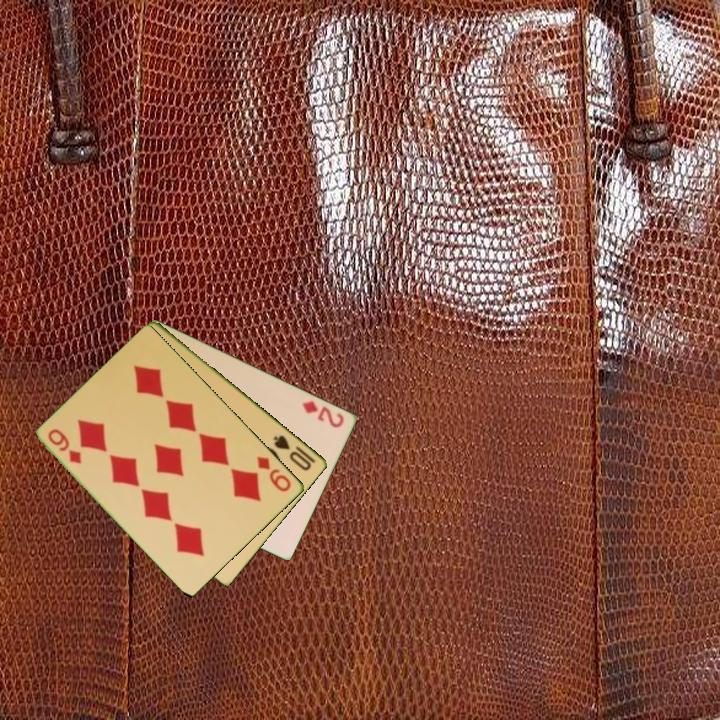10s: (270, 432, 315, 474)
2d: (299, 397, 347, 431)
9d: (253, 452, 295, 495), (44, 425, 85, 467)
